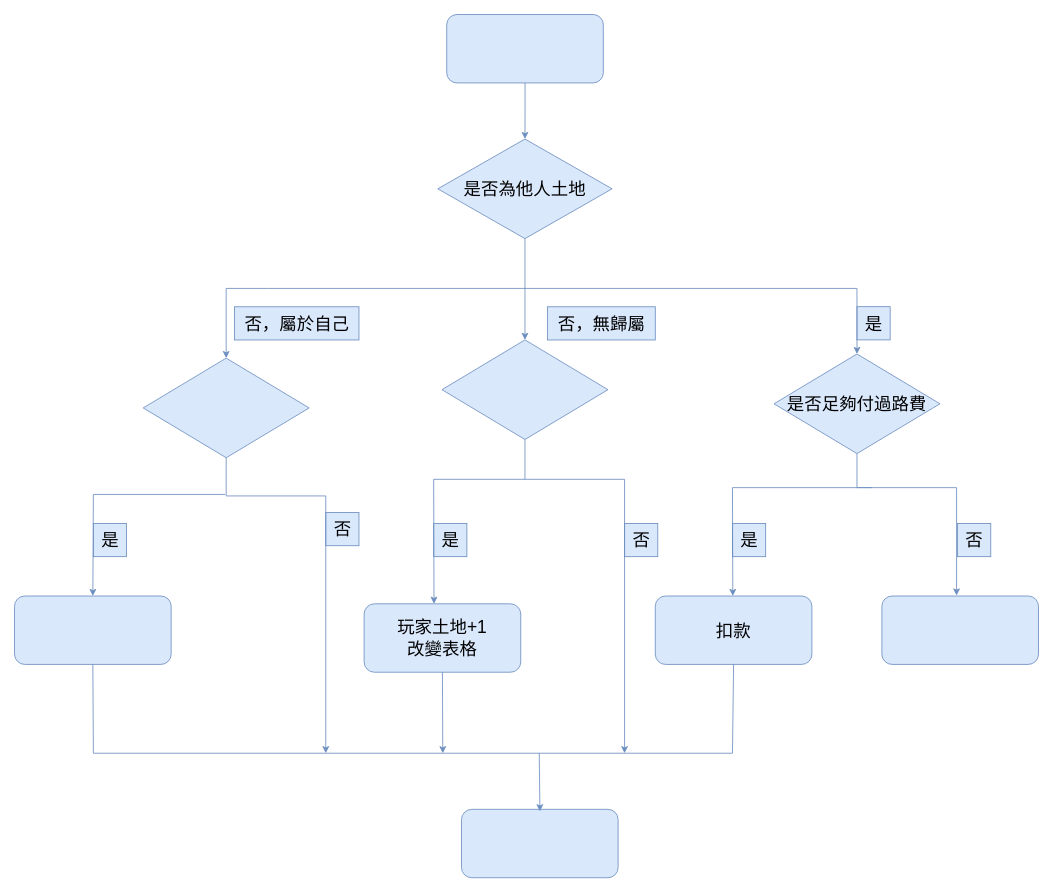
The diagram is 1053 pixels wide and 892 high, and some of its shapes have lost their labels. Here are the shapes that lost their labels. From the top down, the centre of each, then its label:
the point at 524,48: 骰骰子
the point at 225,407: 是否升級
the point at 524,389: 是否足夠購買土地
the point at 92,629: 土地等級上升
the point at 959,629: 遊戲結束
the point at 539,843: 下一位玩家
